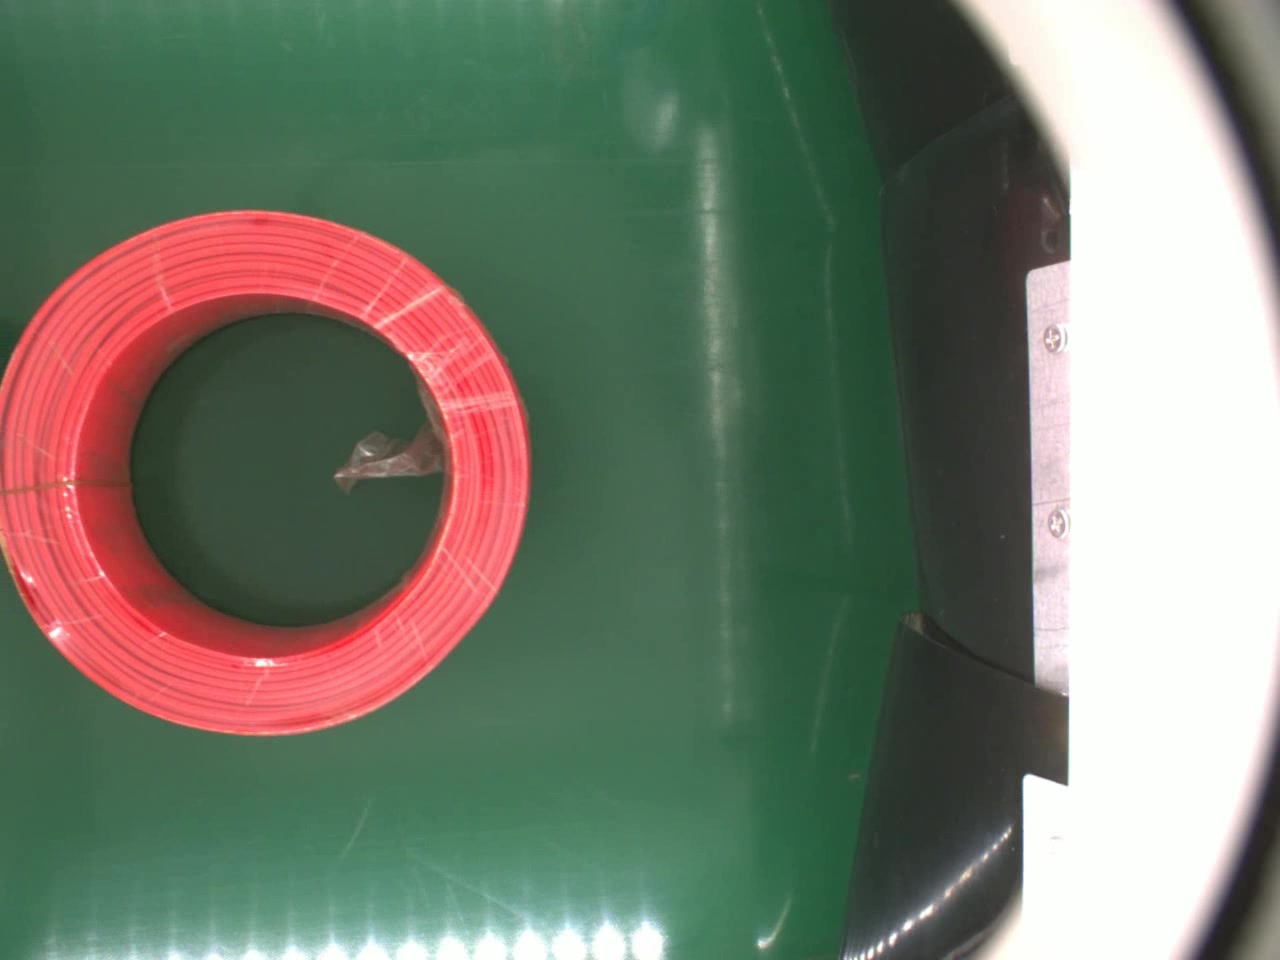red: (4, 205, 531, 737)
